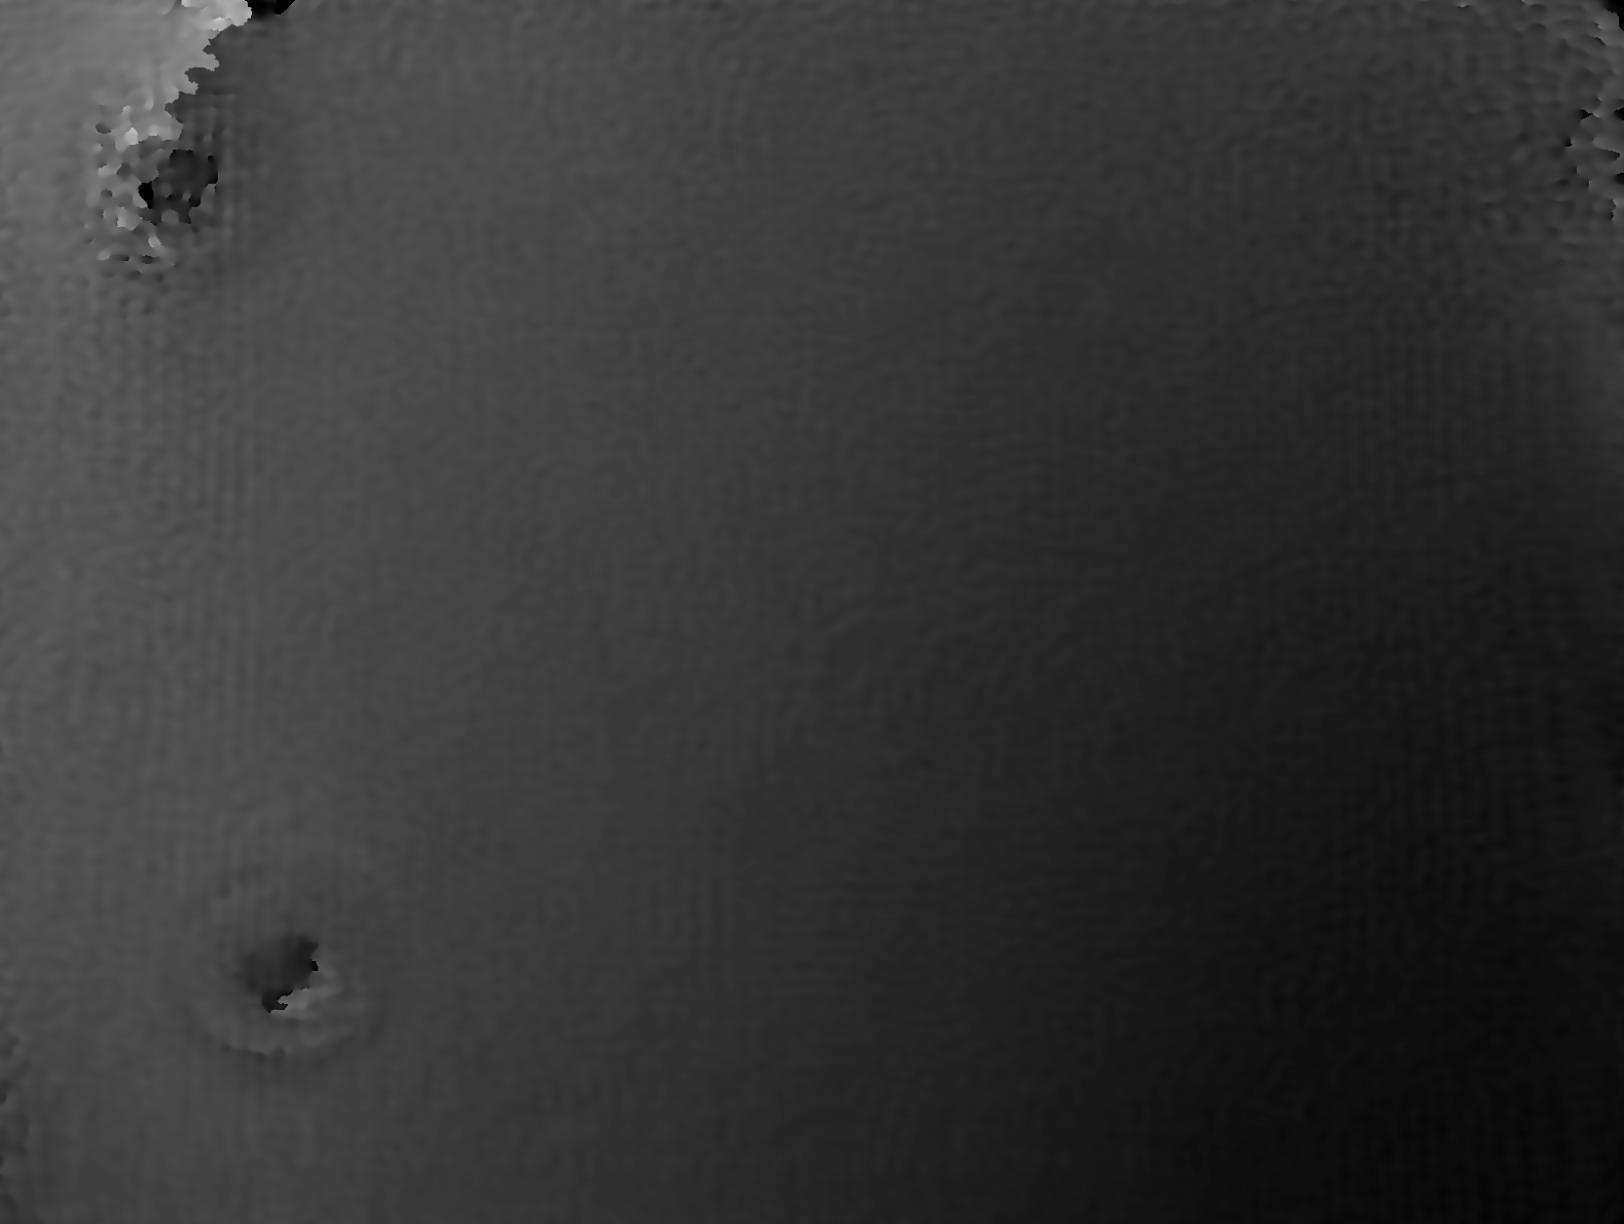cell: (154, 833, 419, 1112), (40, 78, 292, 324)
